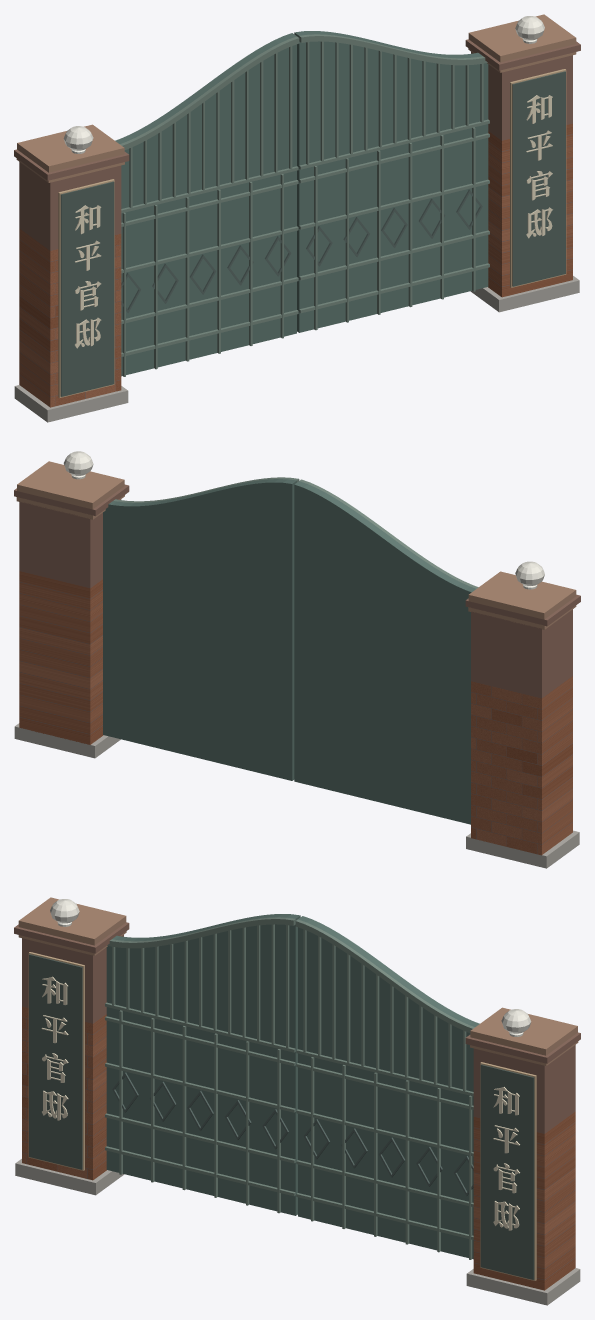
Rendered from dongping-16-twin-peace-inscriptions-far.glb.
The picture shows the model from 3 angles, top to bottom: view 1: azimuth 30°, elevation 25°; view 2: azimuth 150°, elevation 25°; view 3: azimuth 330°, elevation 25°; orthographic projection.
Visible parts, largest first — view 1: 东平路16号和平官邸双题牌院门; view 2: 东平路16号和平官邸双题牌院门; view 3: 东平路16号和平官邸双题牌院门.
Part boxes in pixels (left/top/right/bottom): 东平路16号和平官邸双题牌院门: left=14, top=14, right=580, bottom=422; 东平路16号和平官邸双题牌院门: left=14, top=451, right=580, bottom=868; 东平路16号和平官邸双题牌院门: left=14, top=897, right=580, bottom=1305.
Size of the model in its own units: 4.61 by 2.56 by 0.504.
10 materials, 1 textured.
